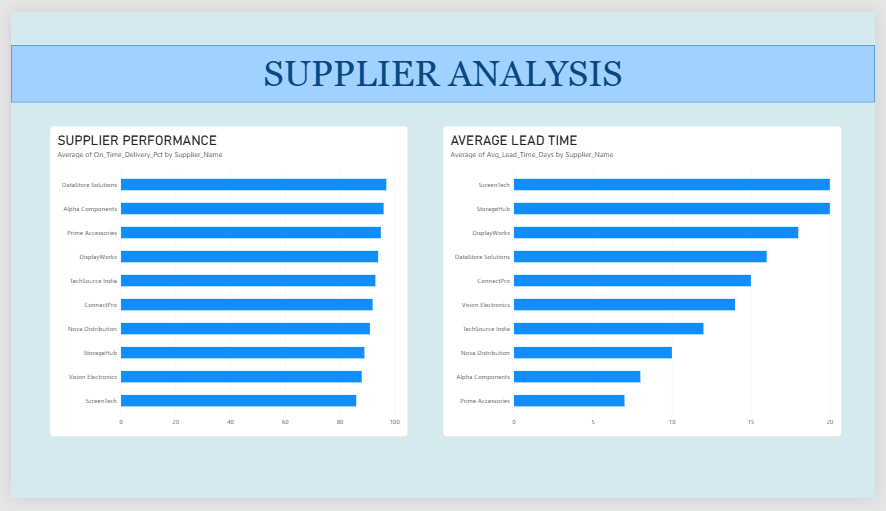

What the dashboard file says about the page in this screenshot:
{"tool":"powerbi","page":{"name":"Supplier Analysis","canvas":[1920,1080],"ordinal":3},"visuals":[{"type":"clusteredBarChart","title":"SUPPLIER PERFORMANCE","fields":{"Category":["Suppliers.Supplier_Name"],"Y":["Avg(Suppliers.On_Time_Delivery_Pct)"]},"box":[87.5,252.5,795,690],"z":0},{"type":"clusteredBarChart","title":"AVERAGE LEAD TIME","fields":{"Category":["Suppliers.Supplier_Name"],"Y":["Avg(Suppliers.Avg_Lead_Time_Days)"]},"box":[960,252.5,885,690],"z":1000},{"type":"shape","title":"SUPPLIER ANALYSIS","box":[0,72.5,1920,127.5],"z":2000}]}

Visuals, with their boxes in screenshot pixels (x1, y1, x2, y2), scaled from the page's 1920x1080 canvas onto the 886x511 screenshot:
"SUPPLIER PERFORMANCE" clusteredBarChart: region(40, 119, 407, 446)
"AVERAGE LEAD TIME" clusteredBarChart: region(443, 119, 851, 446)
"SUPPLIER ANALYSIS" shape: region(0, 34, 885, 95)
